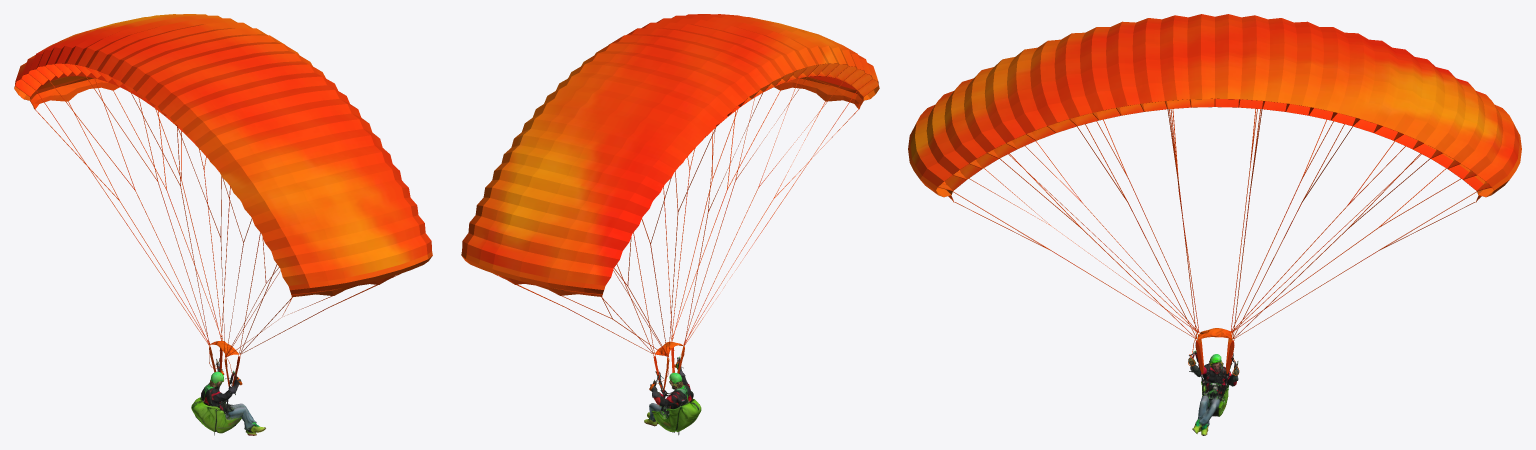
File: paraglider-orange-transformed.glb
3 views of the same model, side by side, from view 1: azimuth 30°, elevation 25°; view 2: azimuth 150°, elevation 25°; view 3: azimuth 270°, elevation 25° (orthographic).
Parts seen in each view (by area): view 1: Parachute_skinned.mo, Mesh_0; view 2: Parachute_skinned.mo, Mesh_0; view 3: Parachute_skinned.mo, Mesh_0.
Part boxes in pixels (<box>): Parachute_skinned.mo: <box>14,14,432,386</box>; Mesh_0: <box>191,358,265,435</box>; Parachute_skinned.mo: <box>461,14,879,390</box>; Mesh_0: <box>644,356,701,435</box>; Parachute_skinned.mo: <box>908,14,1521,375</box>; Mesh_0: <box>1188,349,1238,435</box>.
Size of the model in its own units: 11.91 by 26.54 by 38.72.
Materials: 2 (2 with a texture image).
